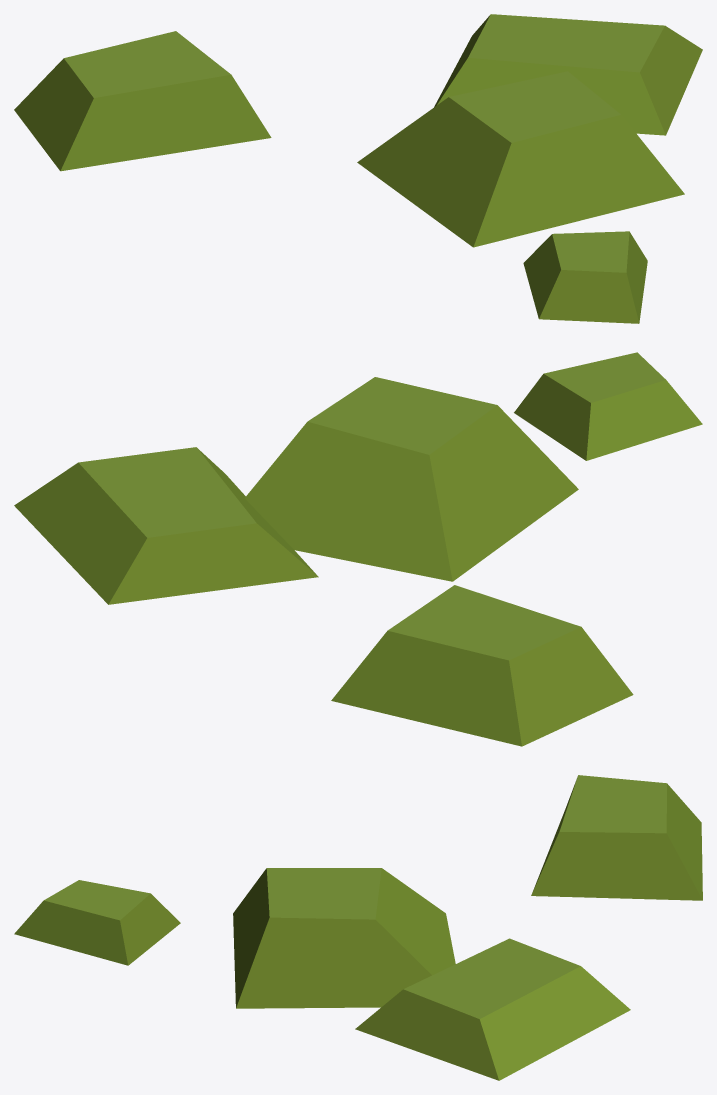
The model's file is ST_Prop_Moss_01.fbx.
The picture shows the model from 3 angles, top to bottom: view 1: azimuth 30°, elevation 25°; view 2: azimuth 150°, elevation 25°; view 3: azimuth 270°, elevation 25°; orthographic projection. The views are drawn at different scales.
Visible parts, largest first — view 1: ST_Prop_Moss_01; view 2: ST_Prop_Moss_01; view 3: ST_Prop_Moss_01.
Part boxes in pixels (left/top/right/bottom): ST_Prop_Moss_01: left=14, top=14, right=702, bottom=323; ST_Prop_Moss_01: left=14, top=352, right=702, bottom=746; ST_Prop_Moss_01: left=14, top=775, right=702, bottom=1080.
Size of the model in its own units: 1.51 by 0.1834 by 1.62.
